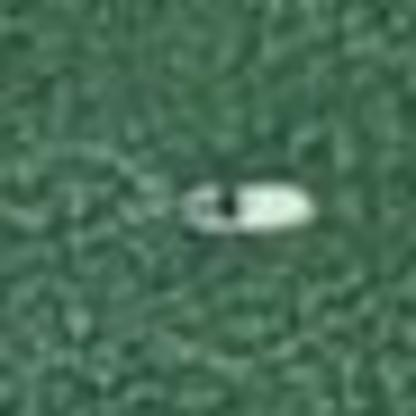ship: (169, 173, 327, 245)
